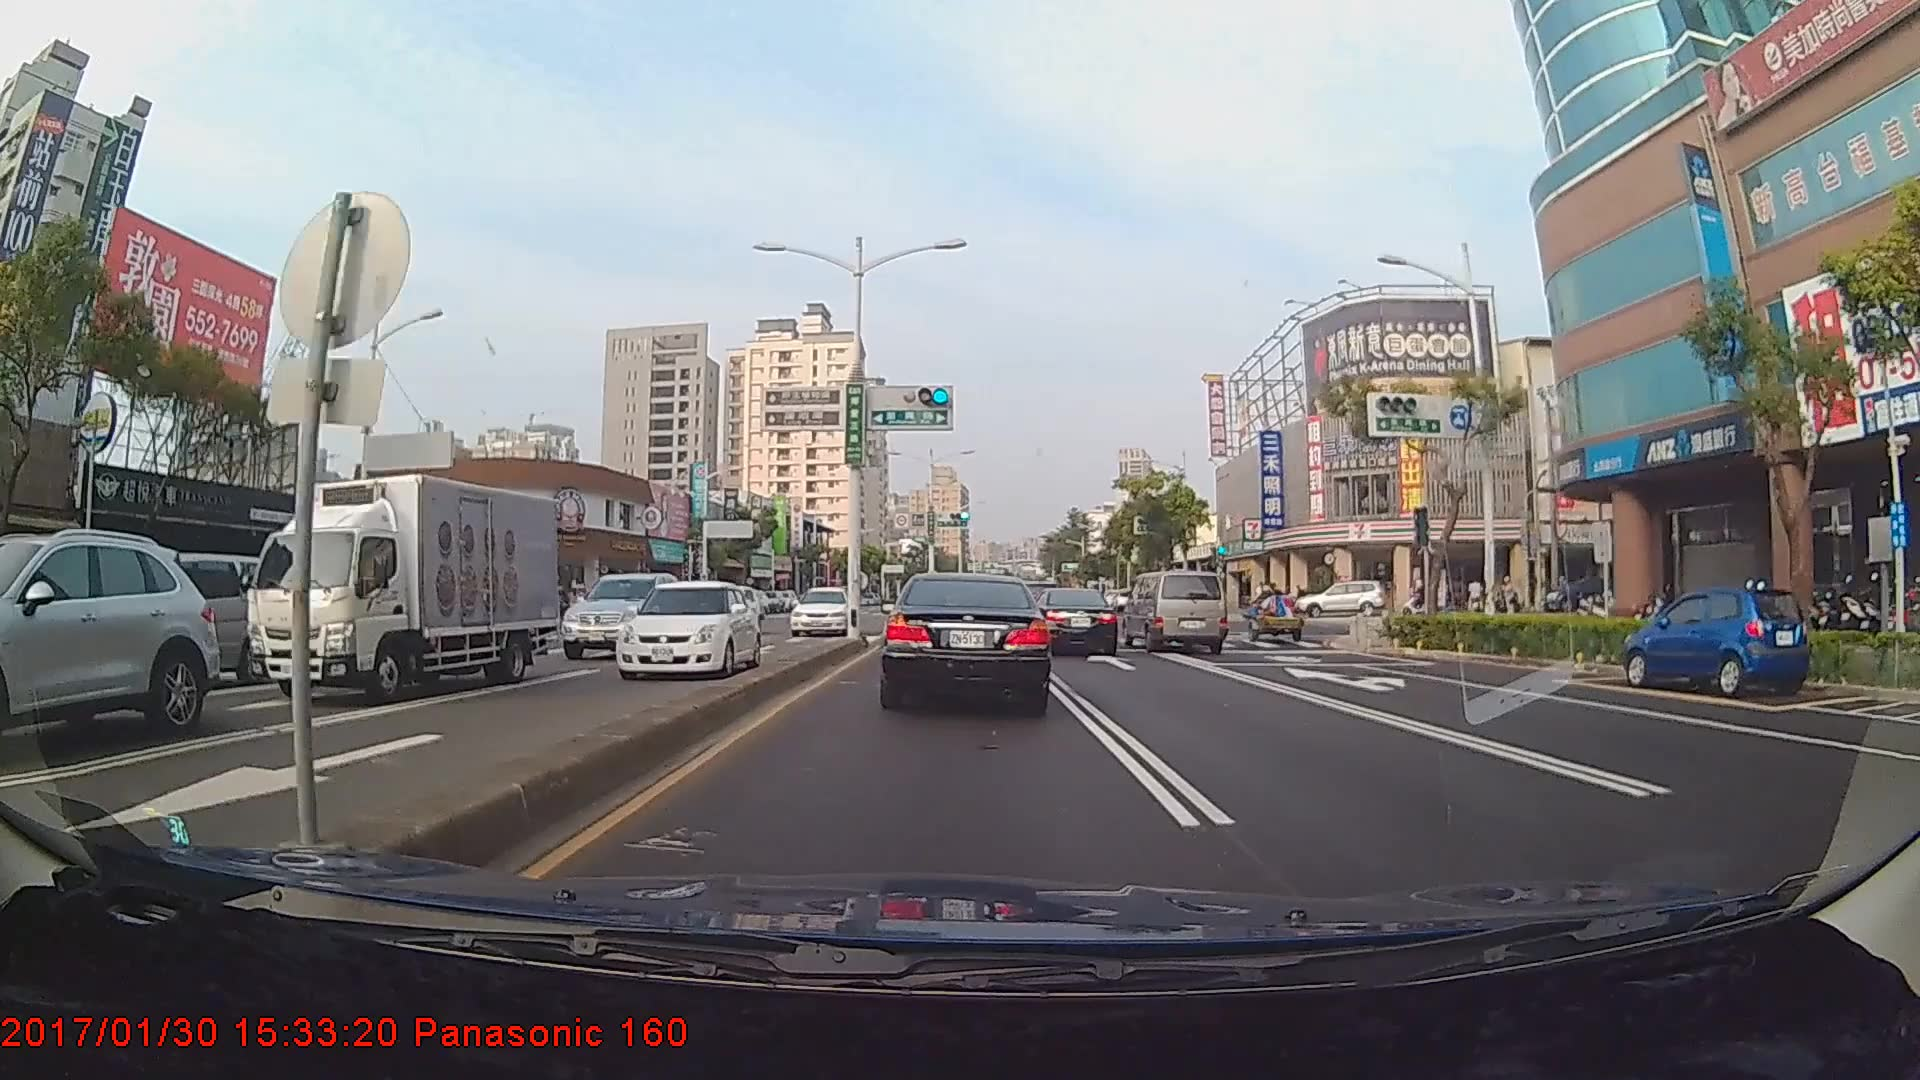vehicle: (233, 462, 572, 711), (0, 529, 214, 760), (83, 549, 265, 684), (882, 570, 1054, 713), (1625, 587, 1804, 696), (612, 578, 764, 678), (551, 566, 684, 659), (1120, 568, 1228, 654), (1029, 587, 1120, 655), (1294, 580, 1389, 618), (789, 584, 856, 636)
